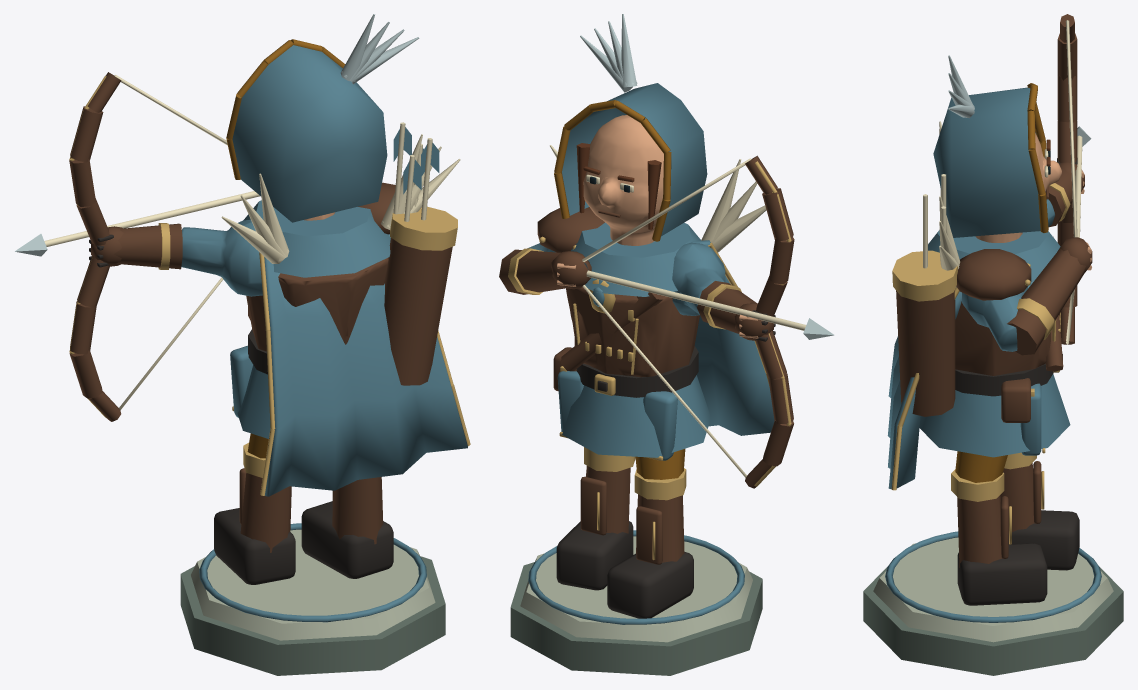
Rendered from advanced_galehunter.glb.
3 renders of one model, left to right at view 1: azimuth 30°, elevation 25°; view 2: azimuth 150°, elevation 25°; view 3: azimuth 270°, elevation 25°, orthographic. The views are drawn at different scales.
Parts seen in each view (by area): view 1: Rank inlay.001, Boot shaft.002, Beveled limestone top.001, Octagonal footing.001, Leather boot toe.002, Eye white.002, Boot cuff.002, Leaf arrowhead.001, Trouser leg.002; view 2: Rank inlay.001, Boot shaft.002, Leather boot toe.002, Octagonal footing.001, Beveled limestone top.001, Unified face and neck.001, Boot cuff.002, Eye white.002, Trouser leg.002, Leaf arrowhead.001, Auburn eyebrow.002; view 3: Rank inlay.001, Boot shaft.002, Beveled limestone top.001, Octagonal footing.001, Leather boot toe.002, Boot cuff.002, Eye white.002, Trouser leg.002, Unified face and neck.001, Leaf arrowhead.001.
Boxes of the visible parts, left/top/right/bottom form: Rank inlay.001: left=181, top=45, right=467, bottom=622; Boot shaft.002: left=69, top=72, right=452, bottom=552; Beveled limestone top.001: left=191, top=529, right=435, bottom=640; Octagonal footing.001: left=180, top=556, right=445, bottom=675; Leather boot toe.002: left=89, top=234, right=393, bottom=584; Eye white.002: left=44, top=75, right=460, bottom=410; Boot cuff.002: left=69, top=75, right=470, bottom=495; Leaf arrowhead.001: left=15, top=14, right=419, bottom=256; Trouser leg.002: left=226, top=39, right=345, bottom=458; Rank inlay.001: left=528, top=83, right=774, bottom=624; Boot shaft.002: left=499, top=155, right=794, bottom=564; Leather boot toe.002: left=556, top=310, right=775, bottom=618; Octagonal footing.001: left=510, top=562, right=762, bottom=675; Beveled limestone top.001: left=520, top=536, right=752, bottom=642; Unified face and neck.001: left=557, top=115, right=758, bottom=338; Boot cuff.002: left=508, top=161, right=791, bottom=560; Eye white.002: left=550, top=145, right=806, bottom=477; Trouser leg.002: left=554, top=100, right=685, bottom=479; Leaf arrowhead.001: left=580, top=14, right=834, bottom=339; Auburn eyebrow.002: left=576, top=143, right=661, bottom=229; Rank inlay.001: left=885, top=87, right=1101, bottom=622; Boot shaft.002: left=896, top=14, right=1092, bottom=567; Beveled limestone top.001: left=873, top=537, right=1113, bottom=642; Octagonal footing.001: left=863, top=567, right=1123, bottom=675; Leather boot toe.002: left=955, top=158, right=1079, bottom=605; Boot cuff.002: left=891, top=183, right=1070, bottom=544; Eye white.002: left=923, top=20, right=1082, bottom=344; Trouser leg.002: left=955, top=83, right=1048, bottom=482; Unified face and neck.001: left=975, top=133, right=1091, bottom=270; Leaf arrowhead.001: left=948, top=55, right=1091, bottom=146.
Bounding box in the file's own units: 1.4 × 2.17 × 0.88.
